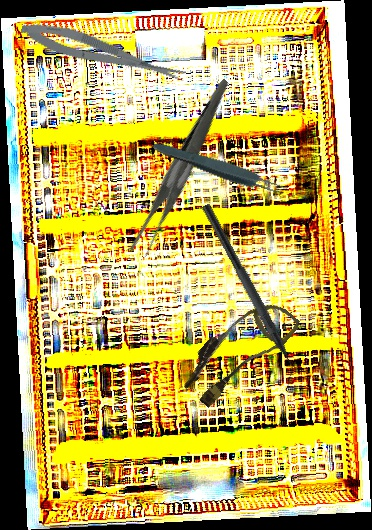Cannula: (174, 284, 303, 418)
Chopper: (189, 203, 307, 389)
Dressing Forceps: (92, 78, 274, 261)
Micro Scissor: (17, 13, 189, 94)
Tissue Forceps: (150, 137, 290, 201)
